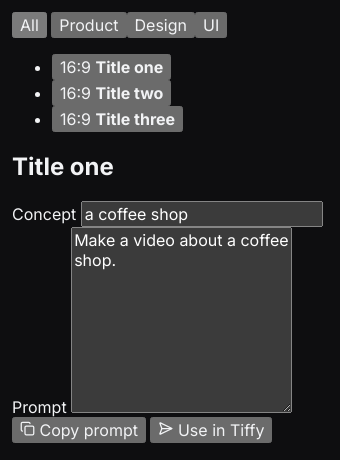
PromptTemplatesPanel › category filter › keeps the open template inside the filtered list
Click the button with class "me-chip" showing "UI" at (211, 25), box [195, 12, 227, 38]
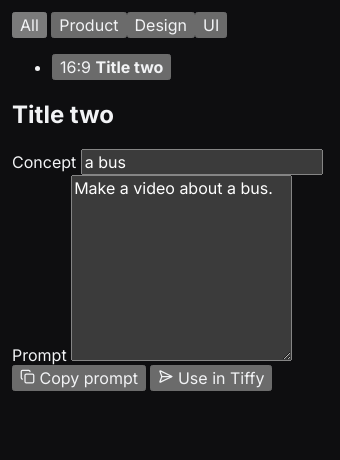
Result: the heading "Title two" is shown at [12, 100, 114, 129]
